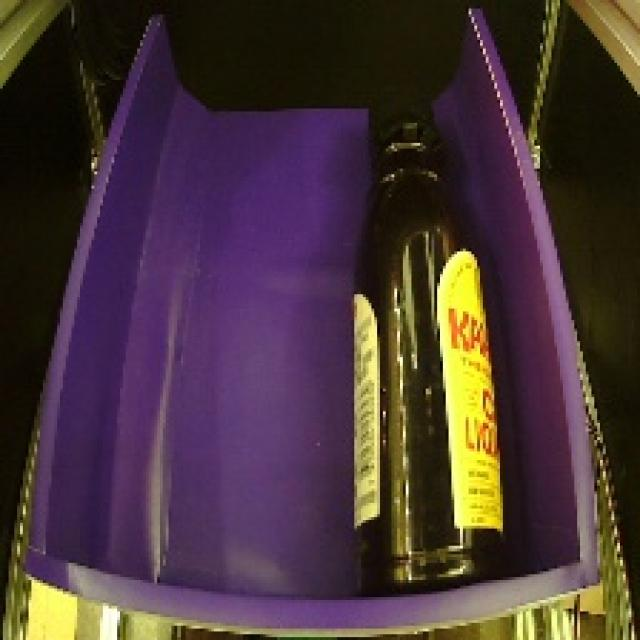plastic: (342, 65, 518, 608)
